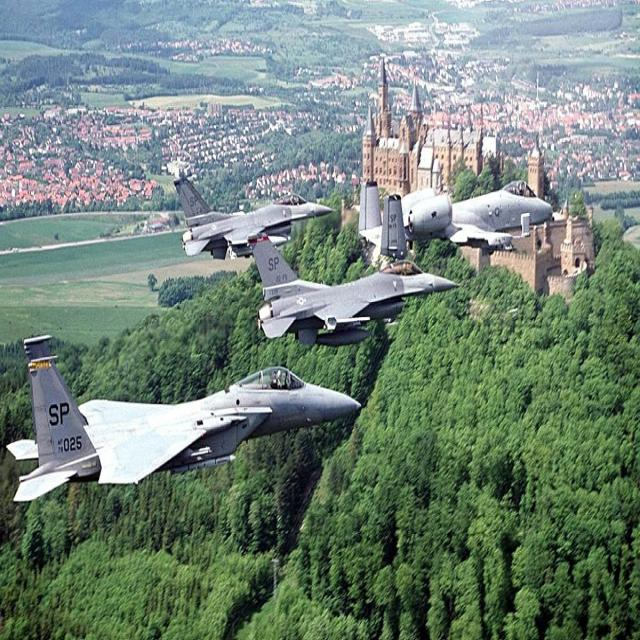MIL_Plane: (5, 333, 362, 501), (246, 230, 462, 348), (357, 178, 555, 260), (172, 176, 338, 260)
